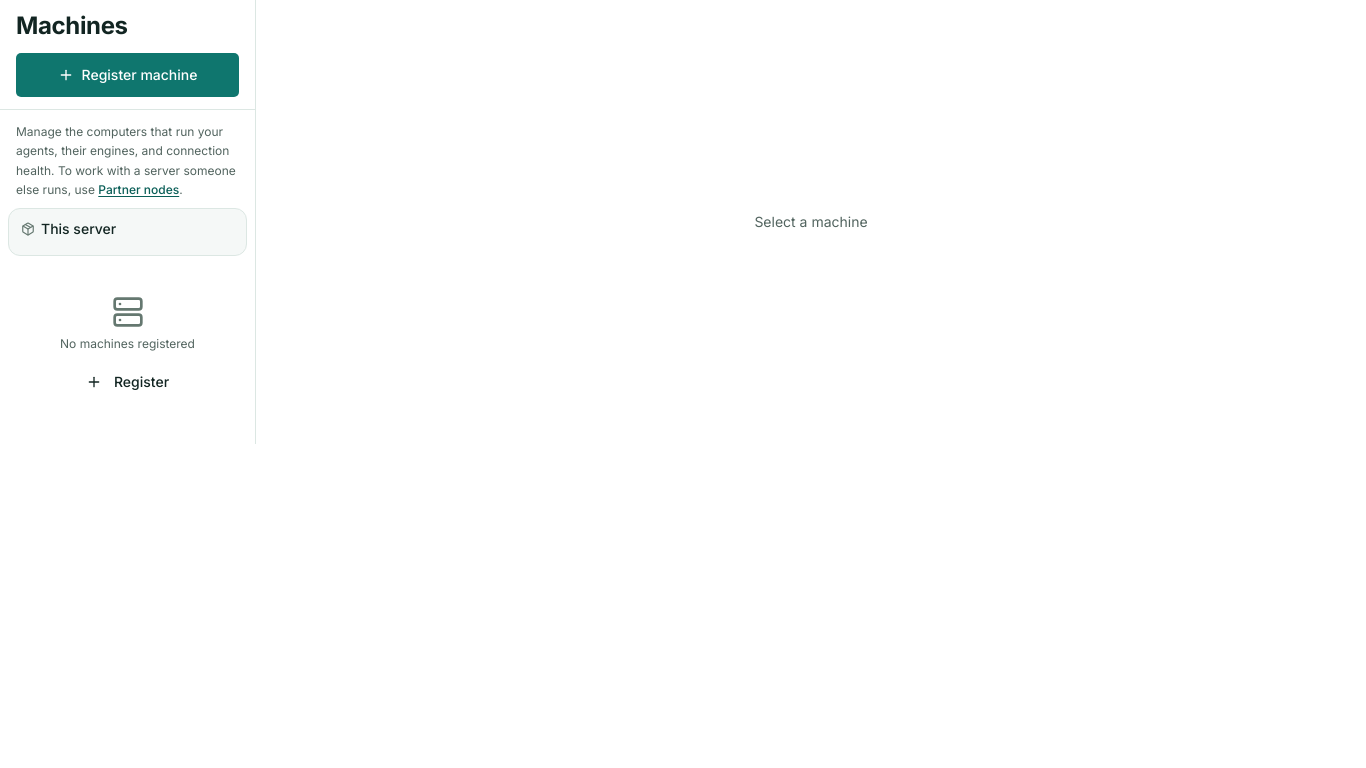
it: keeps the registration draft and surfaces a failed request
Click the button "Register machine": [128, 75] box [16, 53, 239, 97]
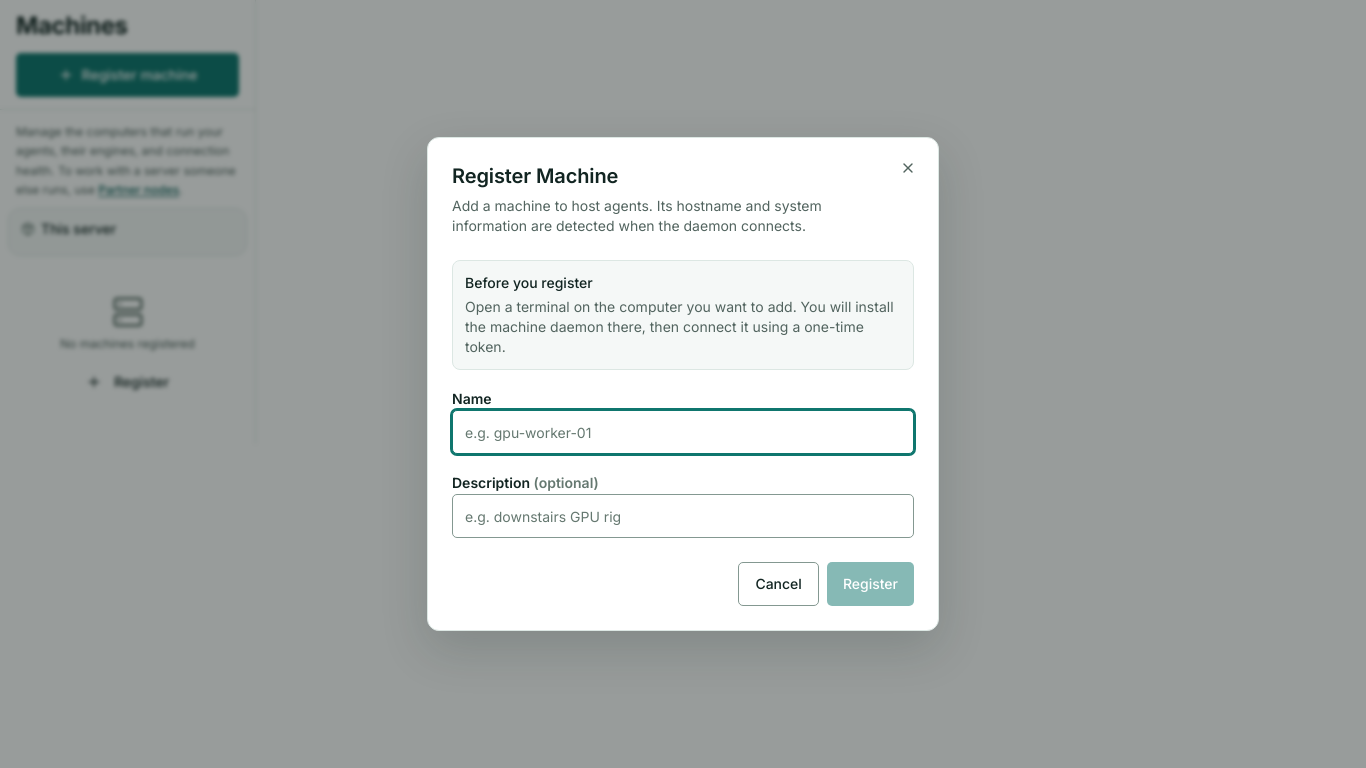
In the field labelled "Name": [683, 432] box [452, 410, 914, 454], type "My machine"
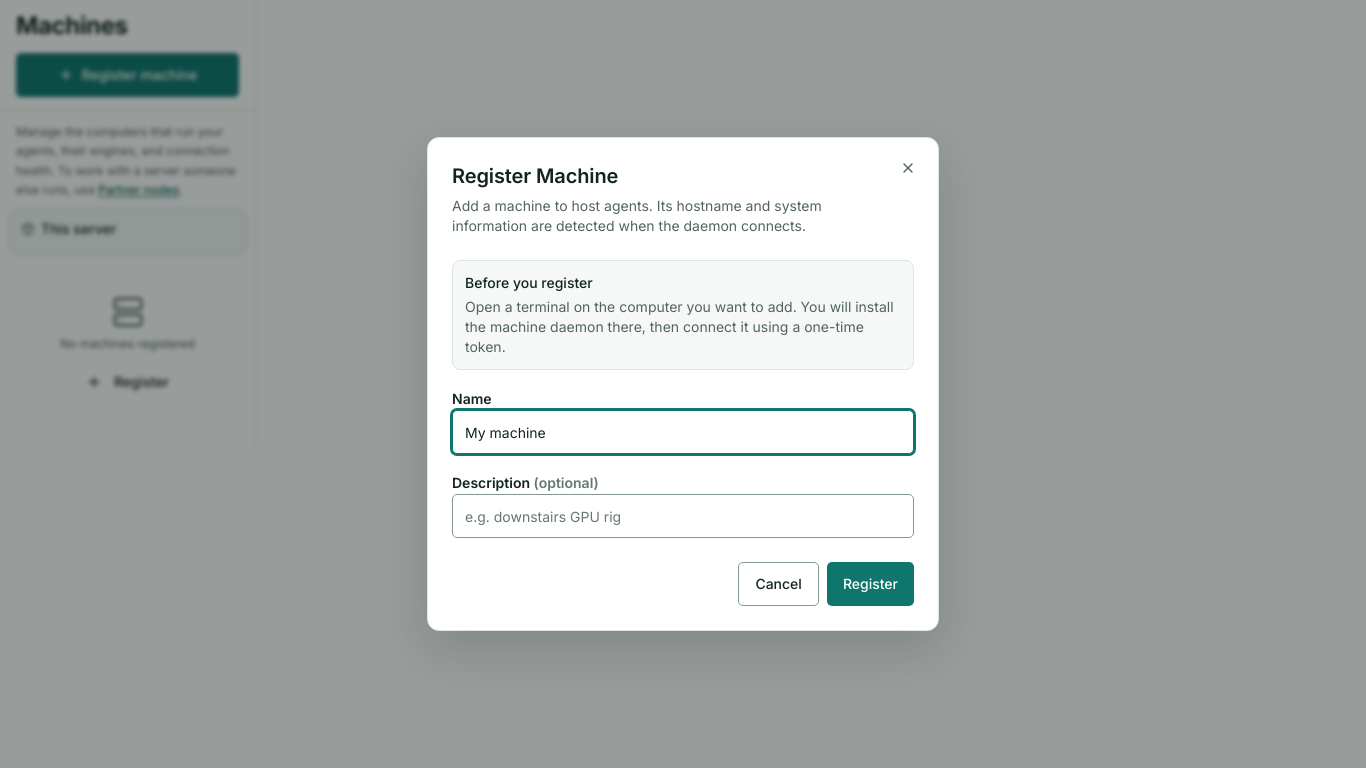
Click the button "Register": [870, 584] box [827, 562, 914, 606]
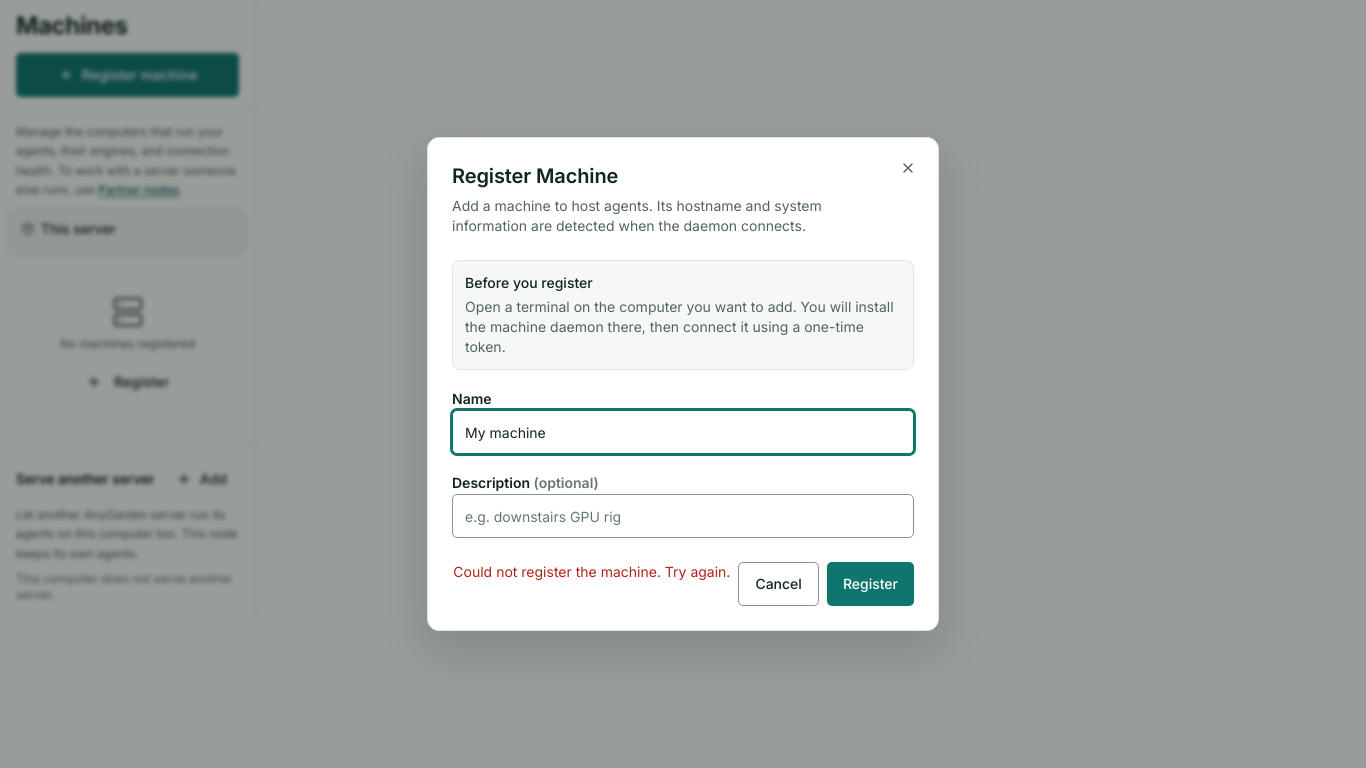
Result: the button "Register" is enabled at [827, 562, 914, 606]
Result: the message shows "Could not register the machine" at [453, 563, 730, 580]
